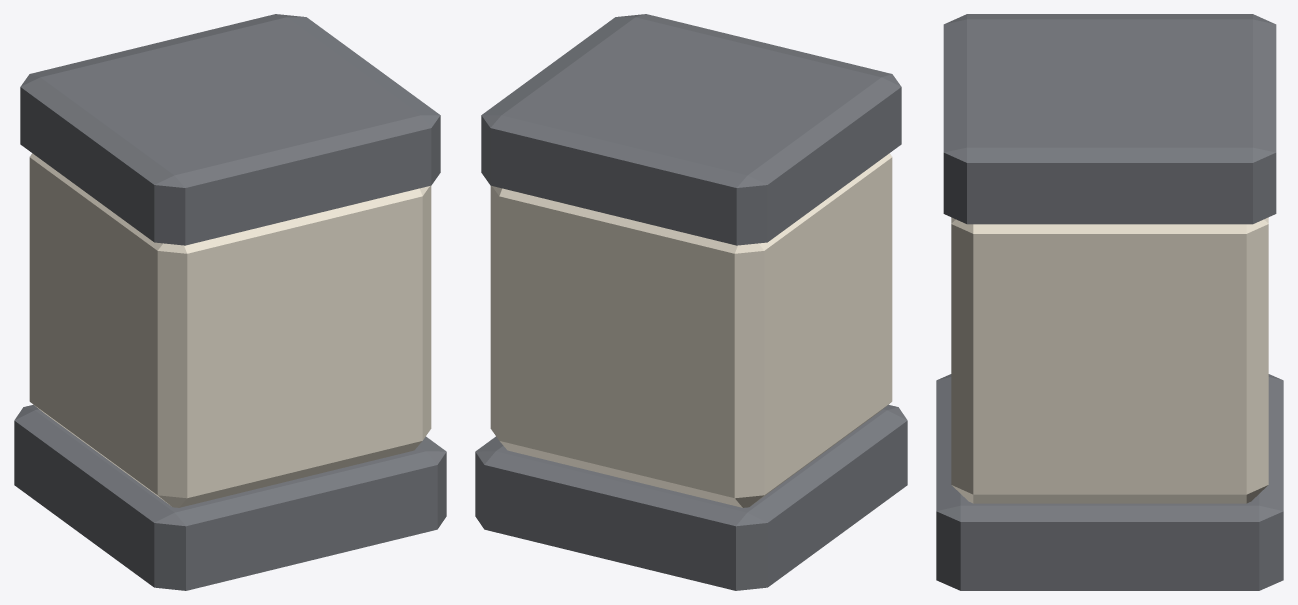
The model's file is b14_postal_rolling_canvas_hamper.glb.
The picture shows the model from 3 angles, left to right: view 1: azimuth 30°, elevation 25°; view 2: azimuth 150°, elevation 25°; view 3: azimuth 270°, elevation 25°; orthographic projection. The views are drawn at different scales.
Parts seen in each view (by area): view 1: b14_postal_rolling_canvas_hamper; view 2: b14_postal_rolling_canvas_hamper; view 3: b14_postal_rolling_canvas_hamper.
Boxes of the visible parts, x1,y1,x2,y2 form: b14_postal_rolling_canvas_hamper: (14,14,446,590); b14_postal_rolling_canvas_hamper: (475,14,907,590); b14_postal_rolling_canvas_hamper: (936,14,1283,590).
Size of the model in its own units: 0.83 by 1.11 by 0.8.
